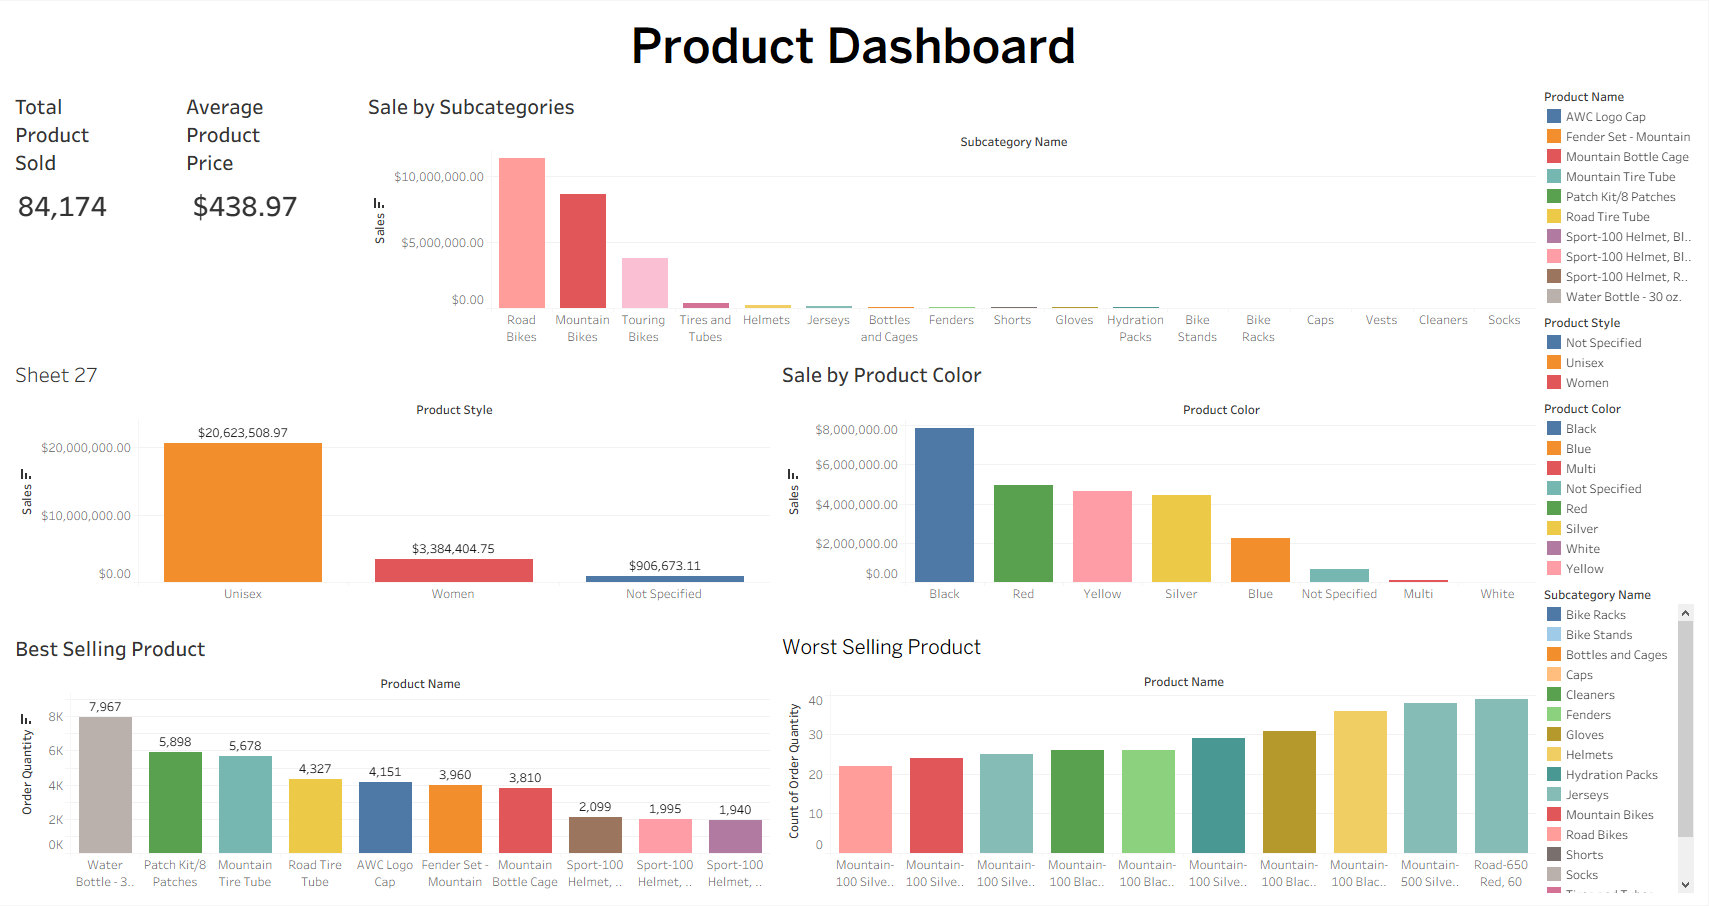

What the dashboard file says about the page in this screenshot:
{"tool":"tableau","page":{"name":"Dashboard 3","canvas":[1000,1000],"units":"permille","ordinal":2},"visuals":[{"type":"text","box":[4.7,8.8,990.6,83]},{"type":"worksheet","title":"Sheet 5","mark":"Automatic","box":[4.7,91.8,100,296.8]},{"type":"worksheet","title":"Sheet 24","mark":"Automatic","box":[104.7,91.8,106.5,296.8]},{"type":"worksheet","title":"Sheet 25","mark":"Automatic","rows":["Sales"],"cols":["SubcategoryName"],"box":[211.2,91.8,690.5,296.8]},{"type":"legend","title":"Sheet 22","param":"[federated.1aws9jr1iyr5lv11f7j1b1no7b1o].[none:ProductName:nk]","box":[901.7,91.8,93.6,250]},{"type":"legend","title":"Sheet 27","param":"[federated.1aws9jr1iyr5lv11f7j1b1no7b1o].[none:ProductStyle:nk]","box":[901.7,341.8,93.6,95.1]},{"type":"worksheet","title":"Sheet 27","mark":"Automatic","rows":["Sales"],"cols":["ProductStyle"],"box":[4.7,388.6,448.5,302.8]},{"type":"worksheet","title":"Sheet 26","mark":"Automatic","rows":["Sales"],"cols":["ProductColor"],"box":[453.2,388.6,448.5,302.8]},{"type":"legend","title":"Sheet 26","param":"[federated.1aws9jr1iyr5lv11f7j1b1no7b1o].[none:ProductColor:nk]","box":[901.7,436.9,93.6,205.8]},{"type":"legend","title":"Sheet 25","param":"[federated.1aws9jr1iyr5lv11f7j1b1no7b1o].[none:SubcategoryName:nk]","box":[901.7,642.7,93.6,348.5]},{"type":"worksheet","title":"Sheet 22","mark":"Automatic","rows":["OrderQuantity"],"cols":["ProductName"],"box":[4.7,691.4,448.5,299.8]},{"type":"worksheet","title":"Sheet 23","mark":"Automatic","rows":["OrderQuantity"],"cols":["ProductName"],"box":[453.2,691.4,448.5,299.8]}]}

Visuals, with their boxes on the dashboard's canvas, which has no fixed pixel size, in thousandths of its width and height (x1, y1, x2, y2). These are canvas units, not pixel positions in the 1709x906 screenshot, which may show the page scaled, cropped or inside an application window:
text: region(5, 9, 995, 92)
"Sheet 5" worksheet: region(5, 92, 105, 389)
"Sheet 24" worksheet: region(105, 92, 211, 389)
"Sheet 25" worksheet: region(211, 92, 902, 389)
"Sheet 22" legend: region(902, 92, 995, 342)
"Sheet 27" legend: region(902, 342, 995, 437)
"Sheet 27" worksheet: region(5, 389, 453, 691)
"Sheet 26" worksheet: region(453, 389, 902, 691)
"Sheet 26" legend: region(902, 437, 995, 643)
"Sheet 25" legend: region(902, 643, 995, 991)
"Sheet 22" worksheet: region(5, 691, 453, 991)
"Sheet 23" worksheet: region(453, 691, 902, 991)
